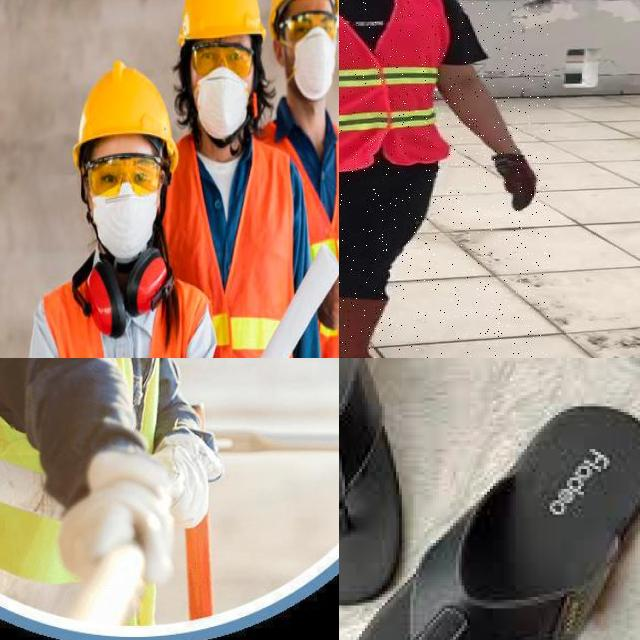Ear-protection: (73, 236, 195, 332)
Sandals: (339, 358, 640, 640)
boots: (339, 288, 418, 358)
hand_glove: (71, 452, 190, 595)
person: (339, 0, 550, 358), (0, 358, 264, 628)
vest: (0, 358, 203, 595), (339, 0, 448, 171)
